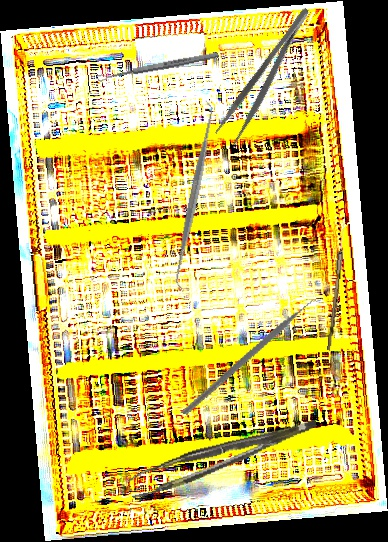Chopper: (179, 271, 330, 446)
Dressing Forceps: (212, 4, 324, 148)
Spatula Surgical: (164, 99, 225, 294)
Surgical Spoon: (96, 50, 220, 83), (327, 217, 347, 351)
Tissue Forceps: (125, 419, 323, 499)
